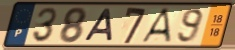3: (30, 6, 60, 44)
7: (123, 6, 147, 45)
8: (56, 6, 88, 45)
9: (176, 8, 206, 44)
A: (139, 7, 173, 44), (83, 8, 114, 43)
